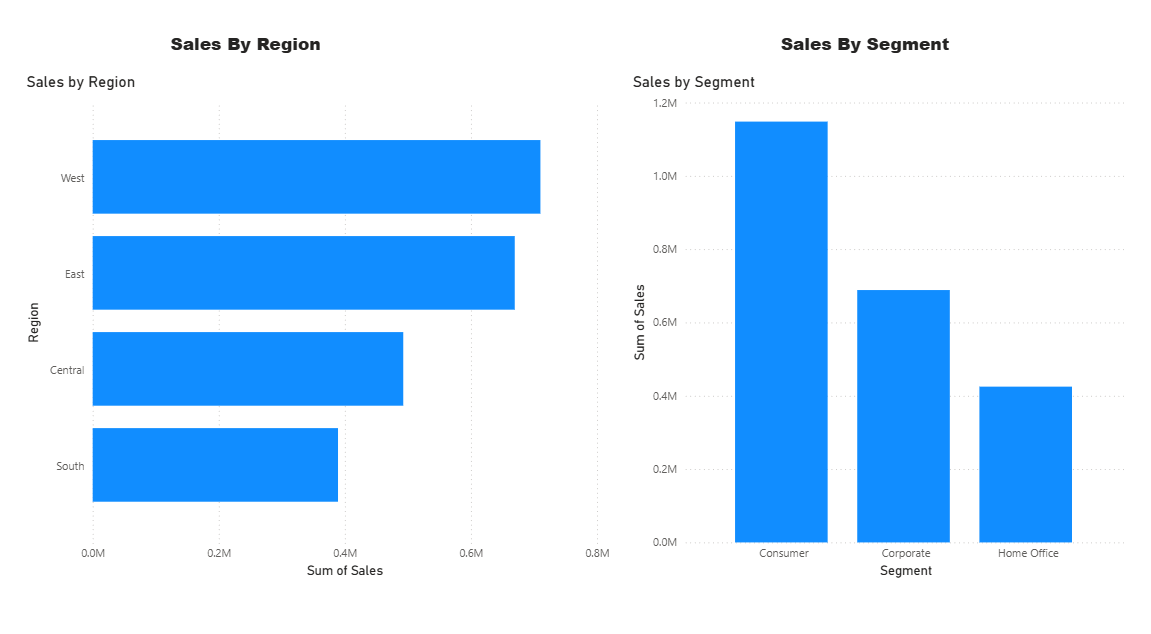

Layout of this report page (visuals, bound fields, positions):
{"tool":"powerbi","page":{"name":"Page 2","canvas":[1280,720],"ordinal":1},"visuals":[{"type":"clusteredBarChart","title":"Sales by Region","fields":{"Category":["sale.Region"],"Y":["Sum(sale.Sales)"]},"box":[32.9,96.1,650.4,559.9],"z":0},{"type":"textbox","box":[85.1,45.3,418.5,39.8],"z":1},{"type":"clusteredColumnChart","title":" Sales by Segment","fields":{"Category":["sale.Segment"],"Y":["Sum(sale.Sales)"]},"box":[698.5,96.1,551.6,559.9],"z":2},{"type":"textbox","box":[730,45.3,435,39.8],"z":3}]}

Visuals, with their boxes in screenshot pixels (x1, y1, x2, y2), scaled from the page's 1280x720 canvas onto the 1151x634 screenshot:
"Sales by Region" clusteredBarChart: x1=30 y1=85 x2=614 y2=578
textbox: x1=77 y1=40 x2=453 y2=75
" Sales by Segment" clusteredColumnChart: x1=628 y1=85 x2=1124 y2=578
textbox: x1=656 y1=40 x2=1048 y2=75
